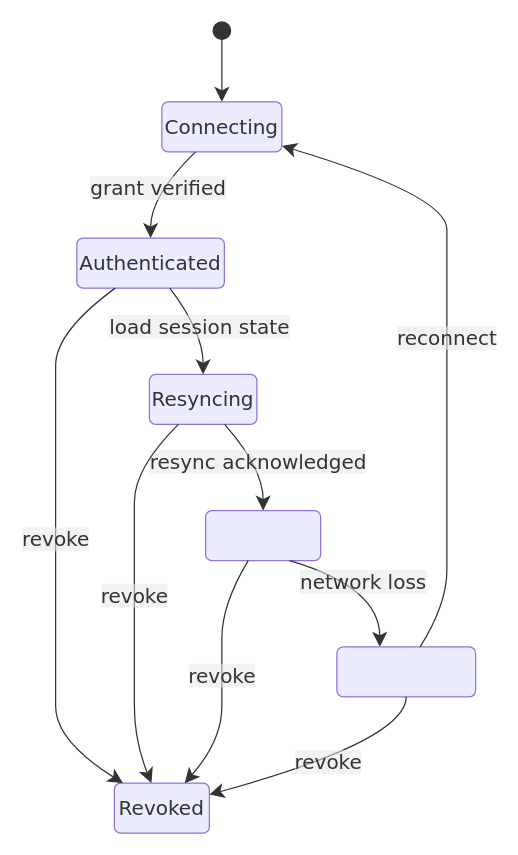
This 518x855 diagram has some shape labels left out. Each missing label, with the centre of its shape:
"Connected" goes at [262,535].
"Disconnected" goes at [406,671].
